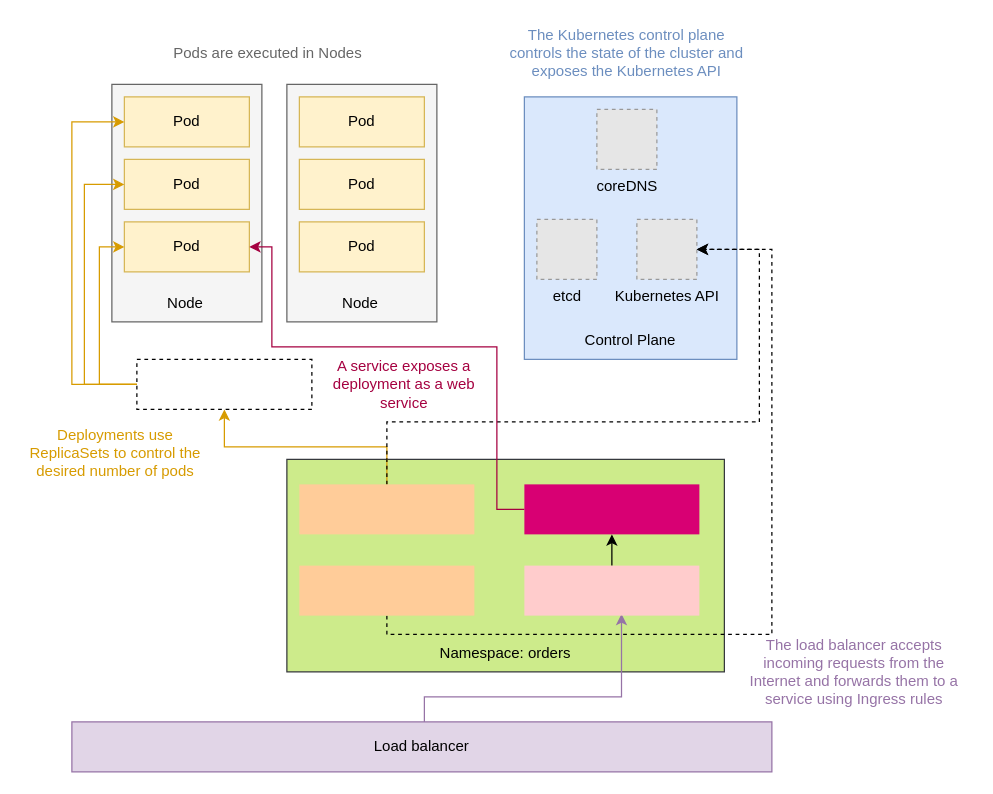
Some shapes in this 993 by 794 pixel diagram are drawn without their labels. Grey dashed boxes stand in for pictures. Each missing label, with the centre of its shape:
Deployment Workload: point (386, 509)
Ingress: point (611, 590)
Job Workload: point (386, 590)
ReplicaSet: point (224, 383)
Service: point (611, 509)
